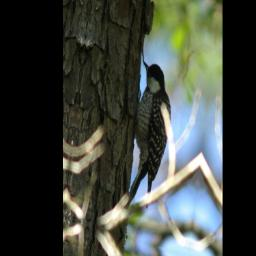Woodpecker: (123, 58, 178, 219)
